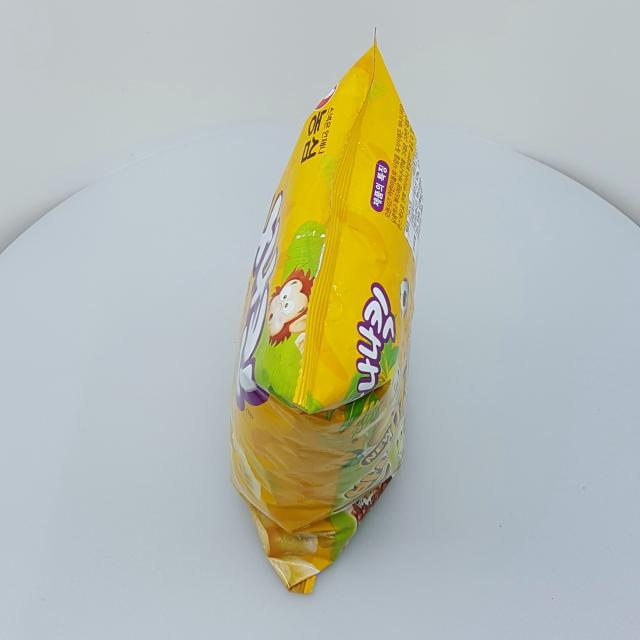-75G: (231, 28, 424, 595)
